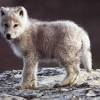Lobo: (1, 2, 93, 87)
